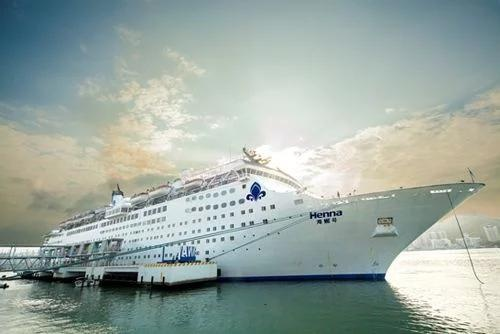youlun: (43, 152, 481, 287)
